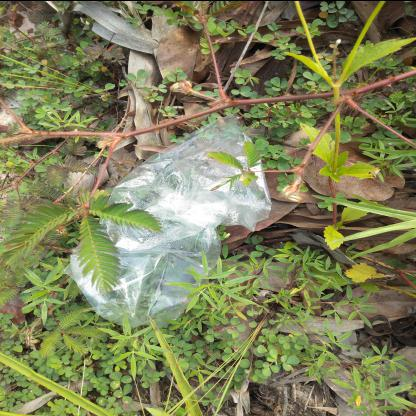plastik: (64, 115, 273, 327)
